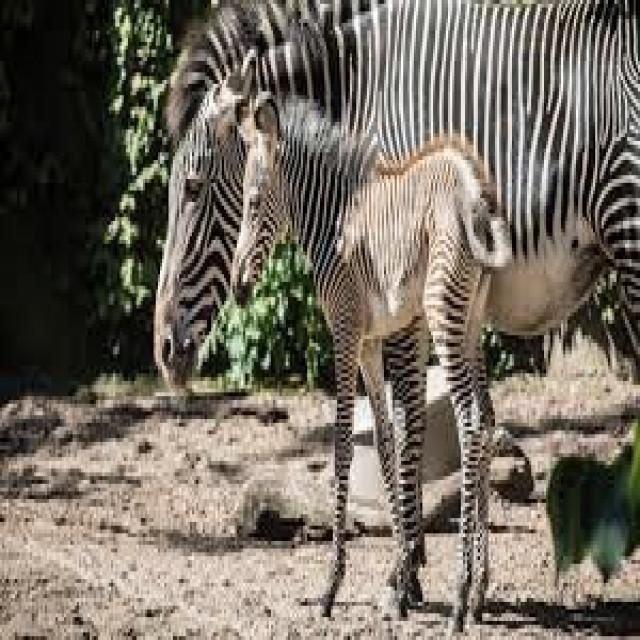zebra: (154, 0, 638, 385), (233, 99, 508, 629)
